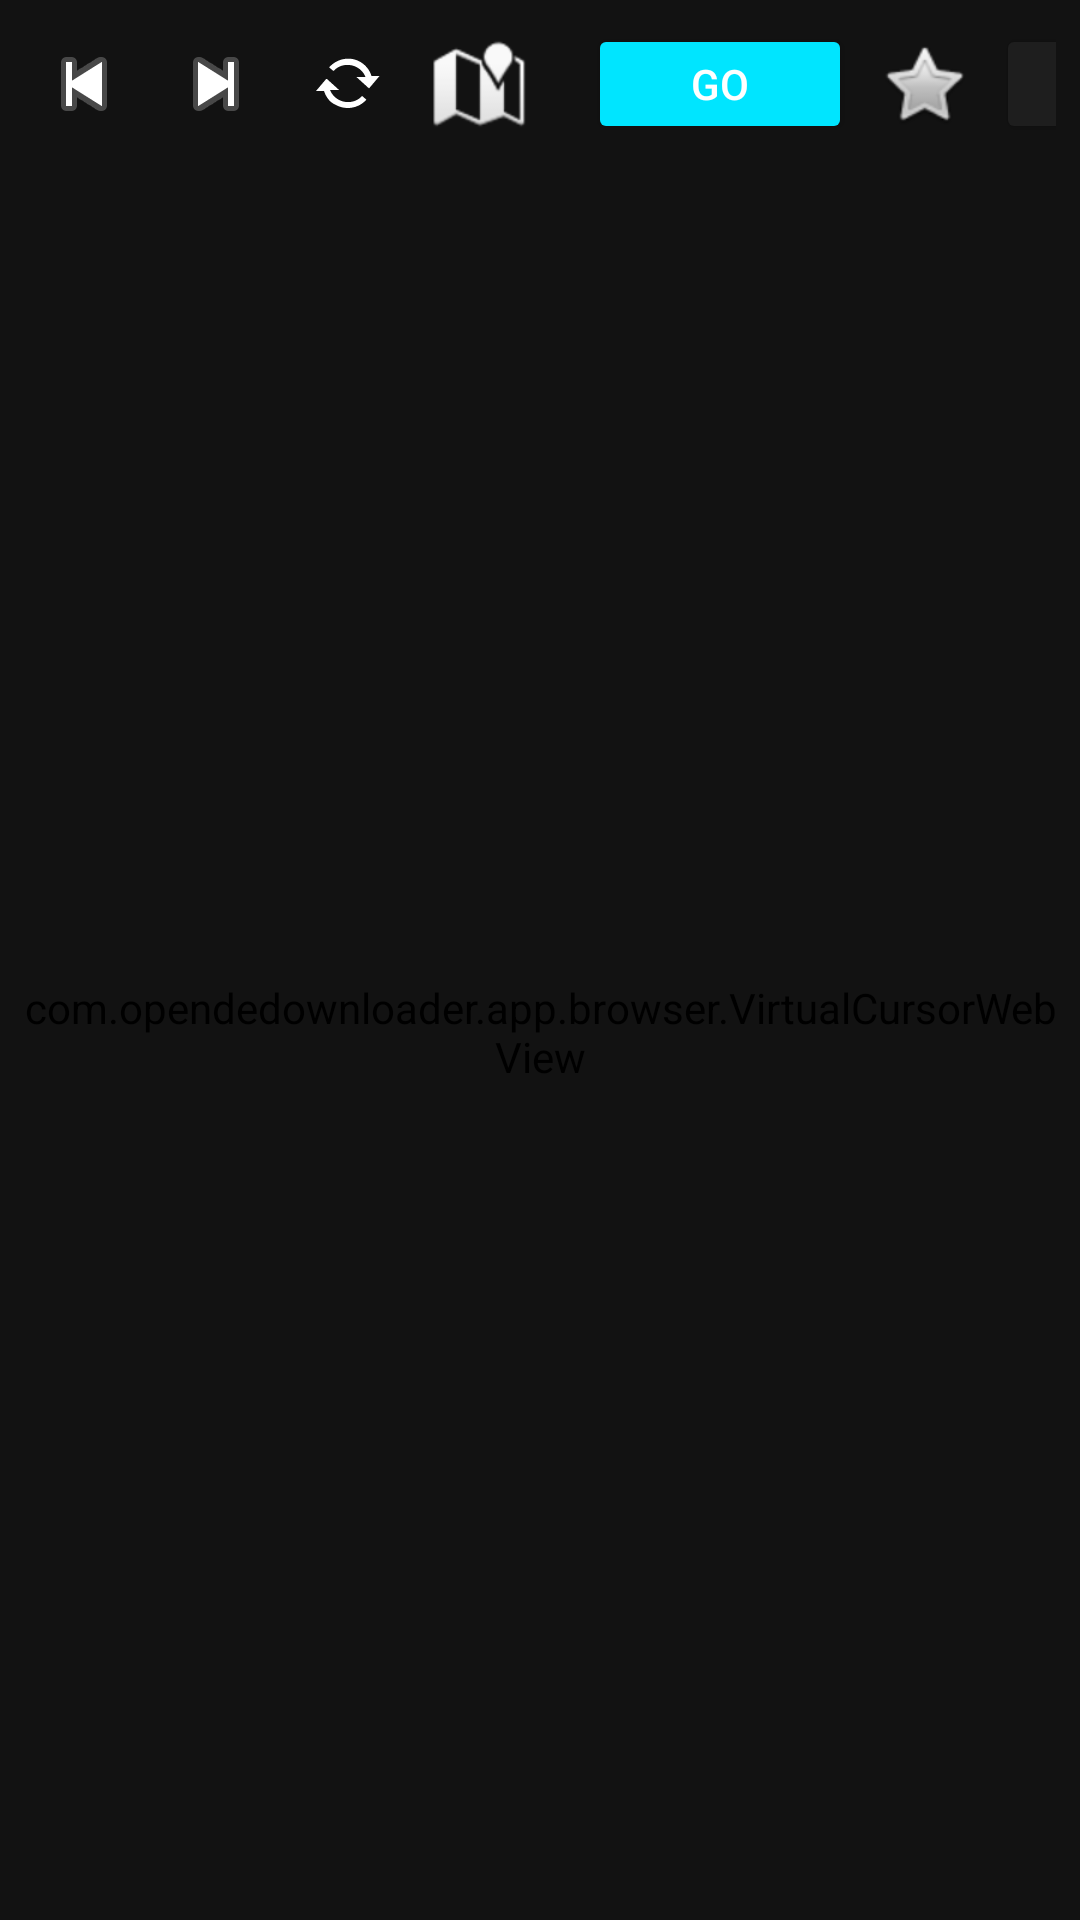

Locate icon controls on the screen. Image size 1080x1920, boxes as (x1, y1, x2, y2).
Add Bookmark: (886, 47, 963, 120)
Back: (61, 57, 107, 111)
Forward: (193, 57, 239, 111)
Refresh: (316, 58, 380, 108)
